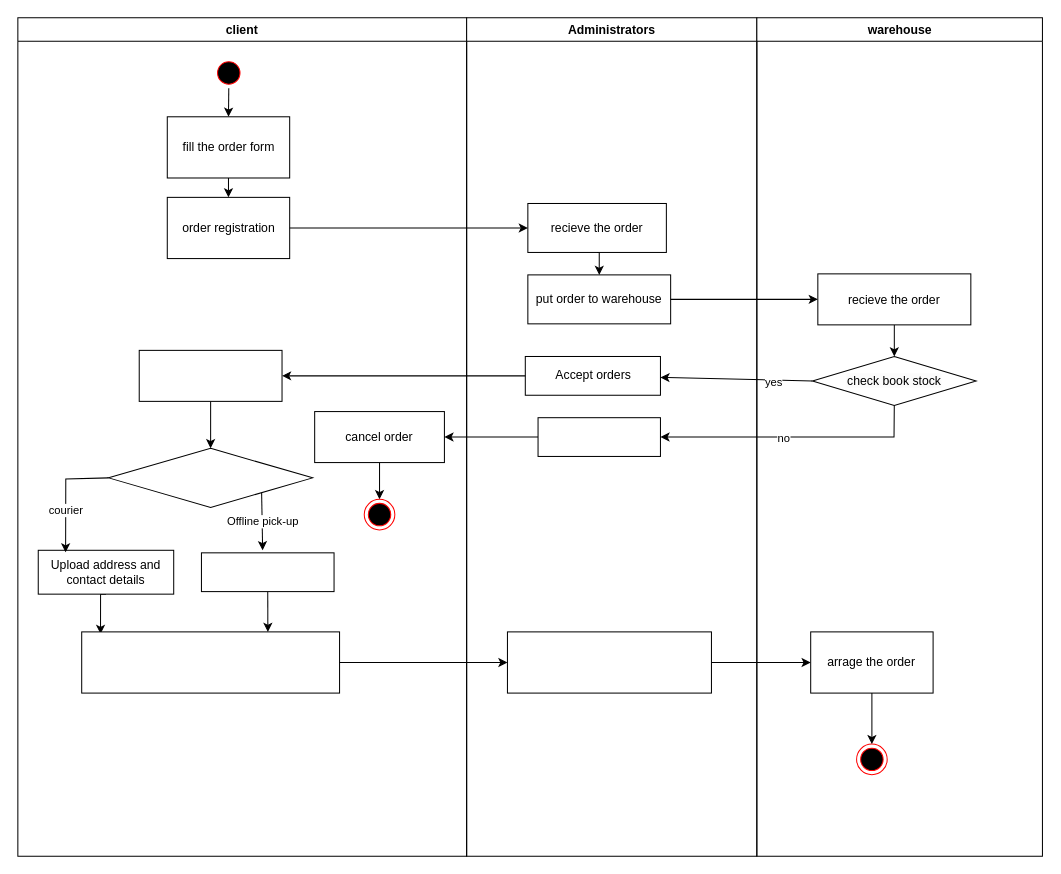
The diagram is 1061 pixels wide and 874 high, and some of its shapes have lost their labels. The shapes that lost their labels are listed below. From the top down, each one's centre as x and y in pixels, then its label:
At [210,375]: "Order verification".
At [598,436]: "refuse order".
At [210,477]: "Choose a pick-up method".
At [267,572]: "Upload pick-up arrangements".
At [210,662]: "post the information to adminstrators".
At [608,662]: "post the information to warehouse".
